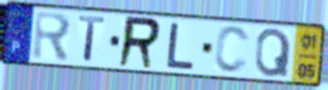C: (212, 24, 252, 76)
L: (164, 21, 196, 72)
Q: (254, 27, 293, 79)
R: (115, 14, 164, 71), (31, 9, 74, 64)
T: (77, 14, 107, 65)
